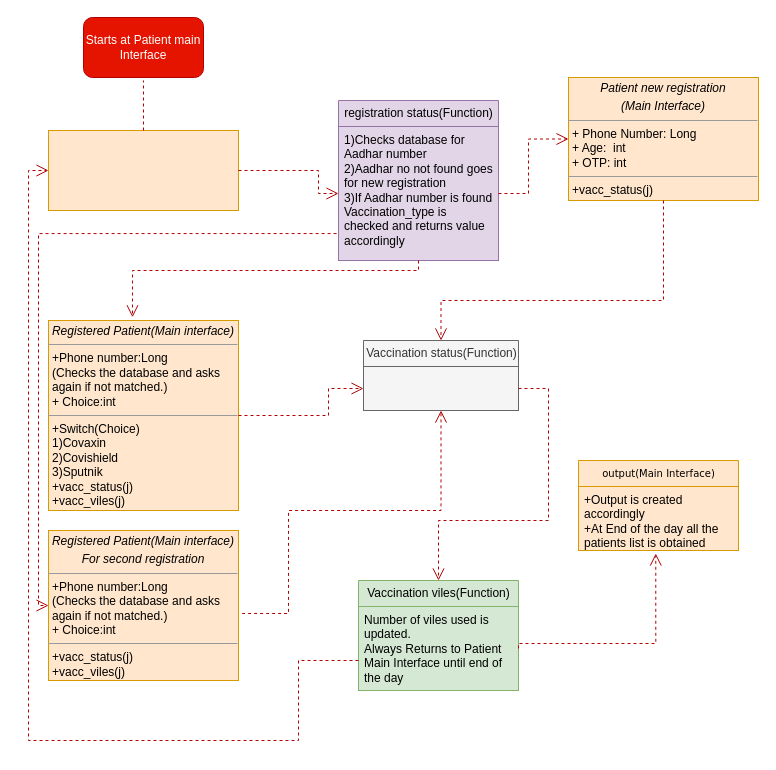
Image size: 776x770. Some labels were removed from this diagram. Here are the shapes that lost their labels. From the top down, the centre of each, then its label:
(x=143, y=170): Patient(Main interface) + Aadhaar Number: Long + reg_status (Adhaar Number)
(x=440, y=388): Vaacination status is updated
